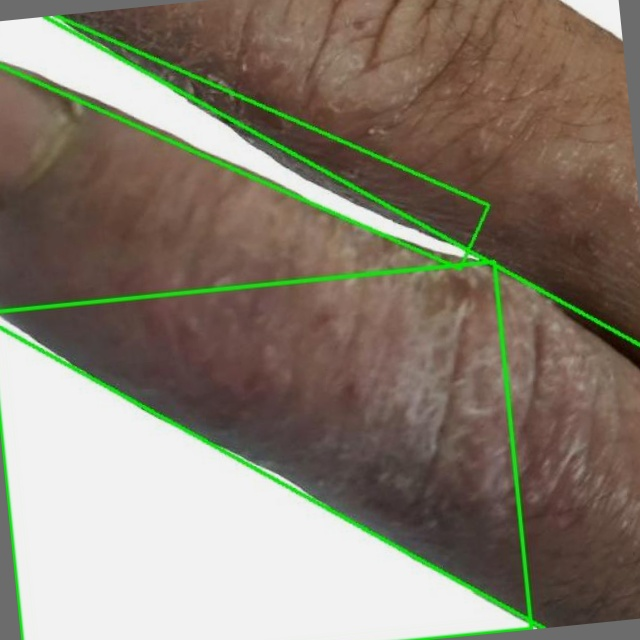Contact Dermatitis: (0, 21, 639, 623), (0, 261, 531, 639), (0, 16, 487, 269)
